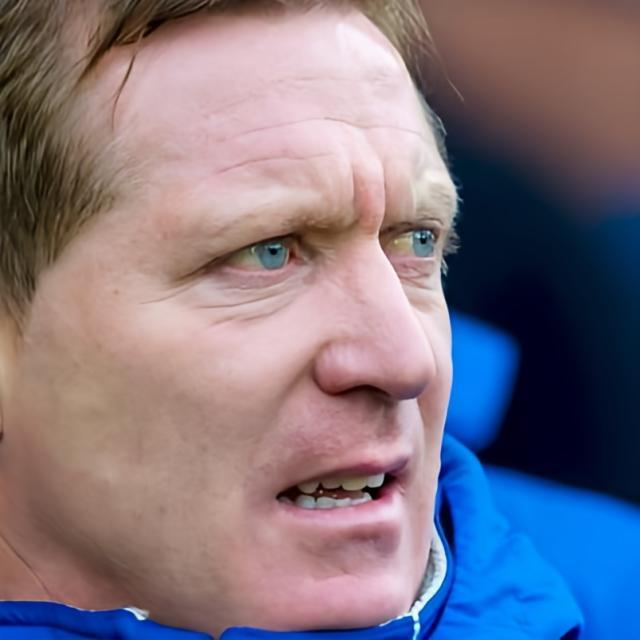disgust: (1, 3, 460, 640)
